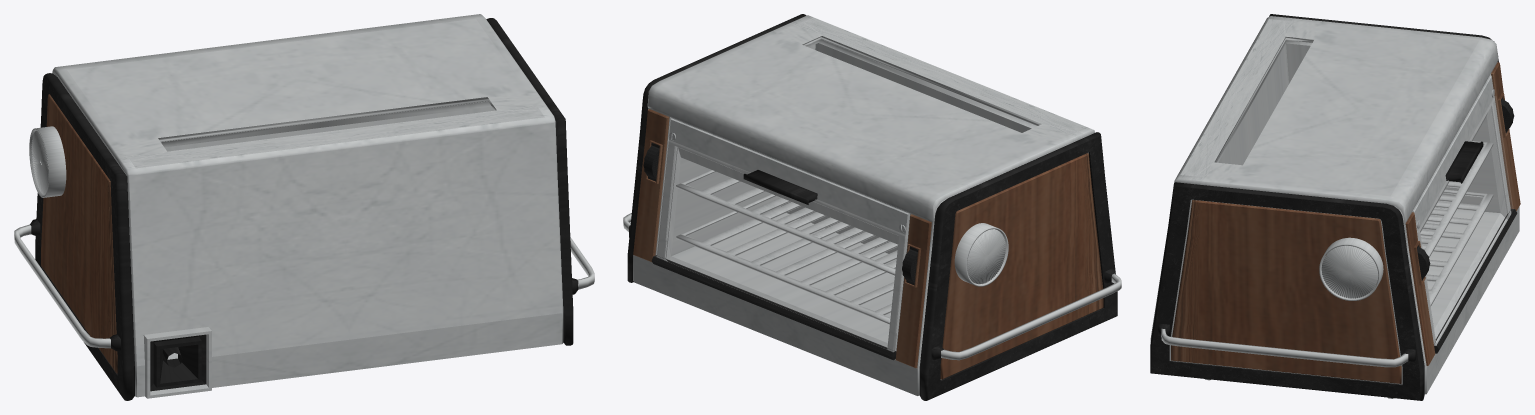
Rendered from table_oven.glb.
The picture shows the model from 3 angles, left to right: view 1: azimuth 30°, elevation 25°; view 2: azimuth 150°, elevation 25°; view 3: azimuth 270°, elevation 25°; orthographic projection. The views are drawn at different scales.
Visible parts, largest first — view 1: TableOven; view 2: TableOven; view 3: TableOven.
Boxes of the visible parts, left/top/right/bottom form: TableOven: left=14, top=14, right=594, bottom=400; TableOven: left=623, top=14, right=1121, bottom=400; TableOven: left=1150, top=14, right=1520, bottom=400.
Bounding box in the file's own units: 0.6787 × 0.31 × 0.4917.
5 materials, 4 textured.
